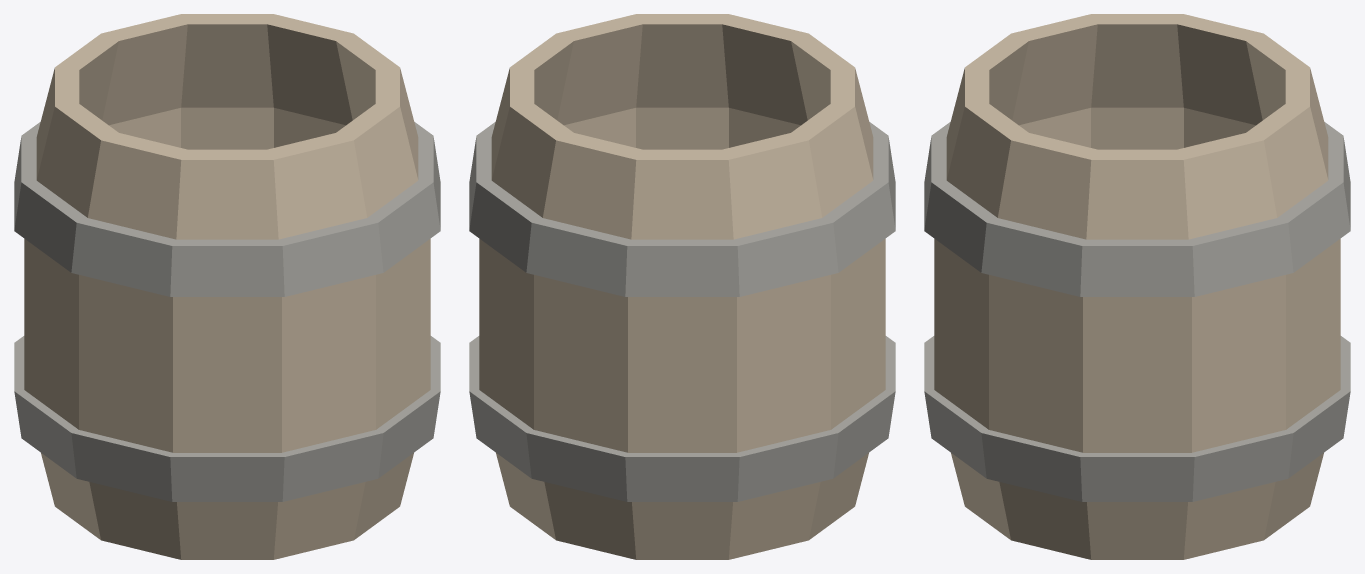
Rendered from Prop_Barrel_1_Open.glb.
3 renders of one model, left to right at view 1: azimuth 30°, elevation 25°; view 2: azimuth 150°, elevation 25°; view 3: azimuth 270°, elevation 25°, orthographic.
Visible parts, largest first — view 1: Prop_Barrel_1_Open.2; view 2: Prop_Barrel_1_Open.2; view 3: Prop_Barrel_1_Open.2.
Part boxes in pixels (left/top/right/bottom): Prop_Barrel_1_Open.2: left=14, top=14, right=440, bottom=559; Prop_Barrel_1_Open.2: left=469, top=14, right=895, bottom=559; Prop_Barrel_1_Open.2: left=924, top=14, right=1350, bottom=559.
Size of the model in its own units: 0.483 by 0.5 by 0.483.
